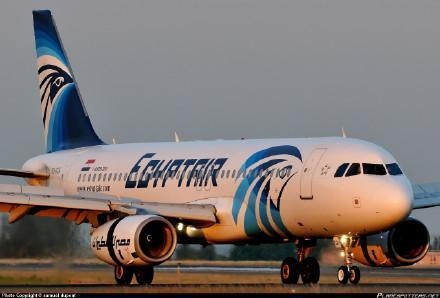airplane: (1, 10, 413, 285)
